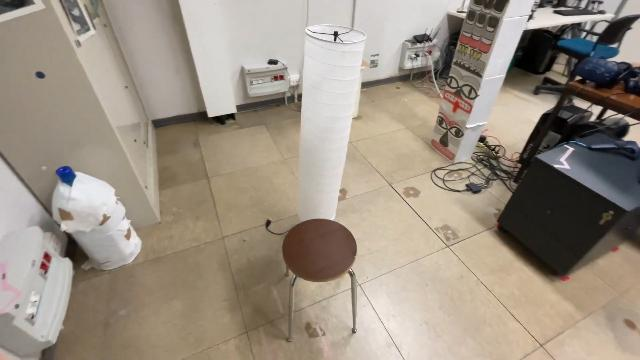Lamp: (293, 19, 369, 223)
Stool: (276, 216, 360, 342)
